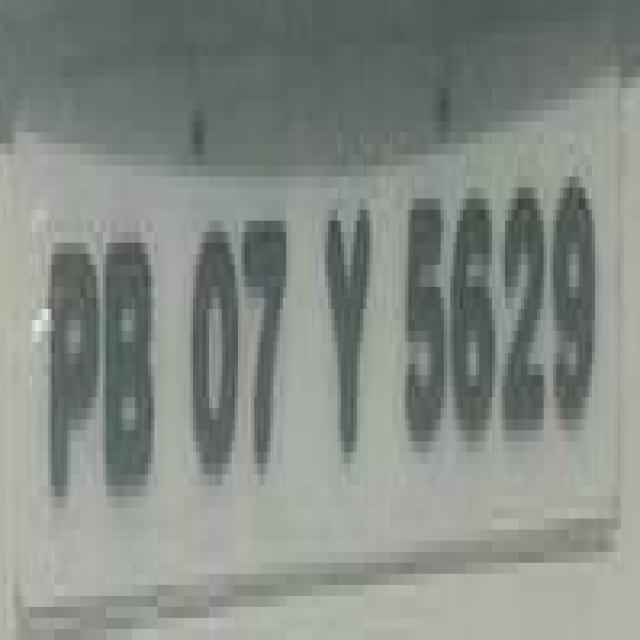plate: (9, 22, 602, 607)
